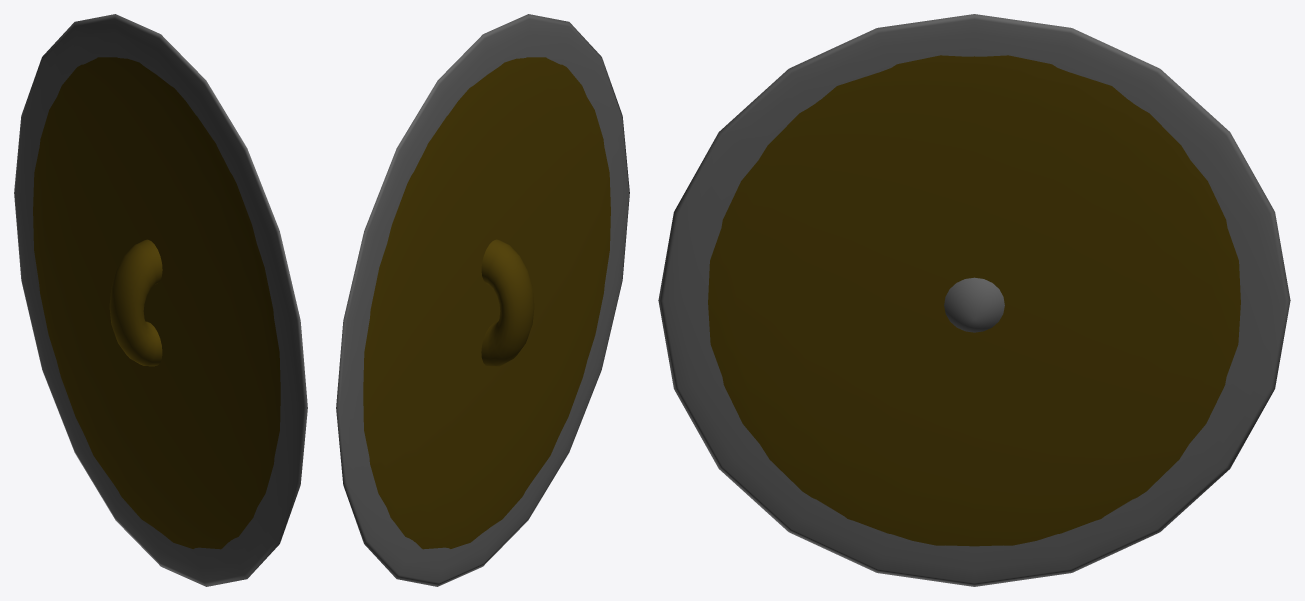
File: shield.fbx
The picture shows the model from 3 angles, left to right: view 1: azimuth 30°, elevation 25°; view 2: azimuth 150°, elevation 25°; view 3: azimuth 270°, elevation 25°; orthographic projection. The views are drawn at different scales.
Parts seen in each view (by area): view 1: pTorus3; view 2: pTorus3; view 3: pTorus3.
Part boxes in pixels (x1=…): pTorus3: x1=14, y1=14, x2=307, y2=586; pTorus3: x1=336, y1=14, x2=629, y2=586; pTorus3: x1=658, y1=14, x2=1290, y2=586.
Bounding box in the file's own units: 3.05 × 18.76 × 18.76.
